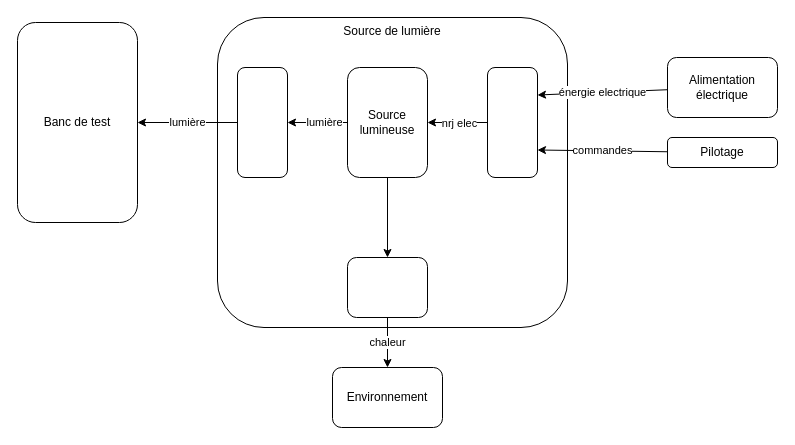
The diagram is 795 pixels wide and 445 high, and some of its shapes have lost their labels. The shapes that lost their labels are listed below. From the top down, each one's centre as x and y in pixels, then its label:
(x=262, y=122): Diffuseur
(x=512, y=122): Controleur
(x=387, y=287): Dissipateur thermique
